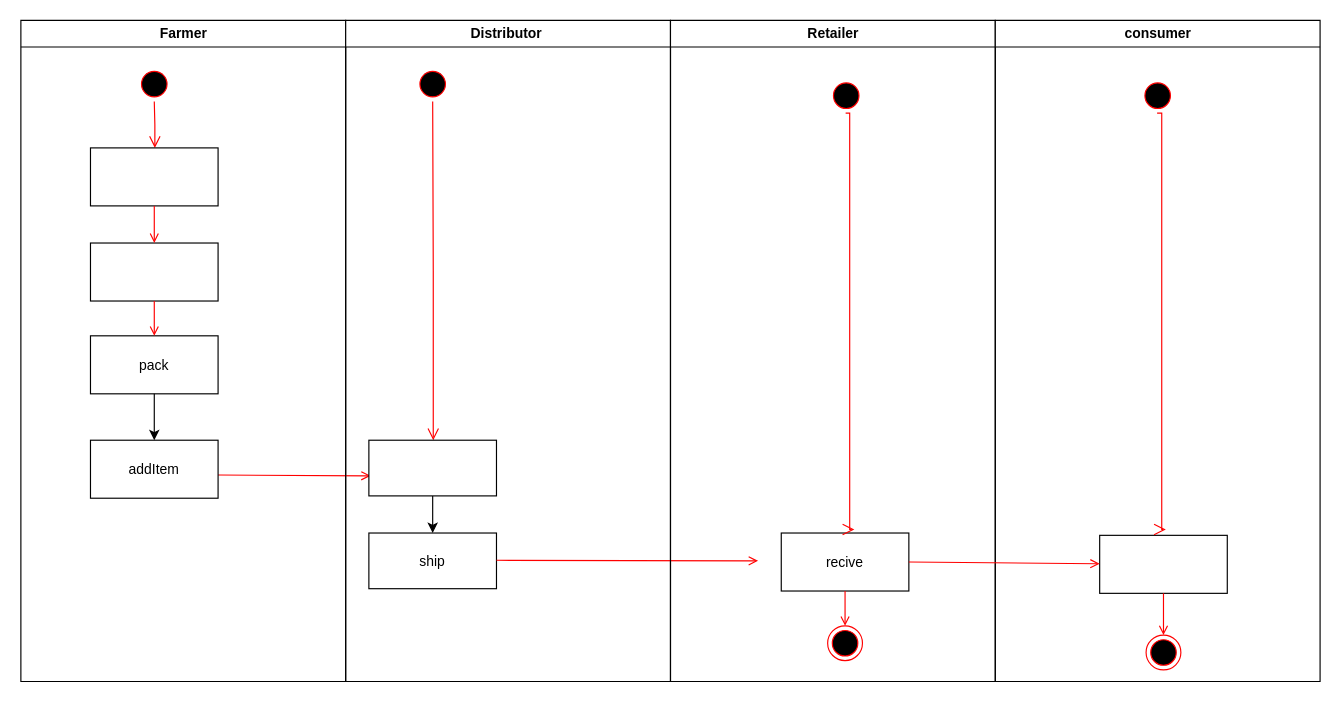
The diagram is 1340 pixels wide and 702 high, and some of its shapes have lost their labels. The centre of each missing label's shape, as x and y in pixels:
"buy" belongs at pixel 432 467.
"Harvest" belongs at pixel 153 176.
"process" belongs at pixel 153 271.
"purchase" belongs at pixel 1163 563.
